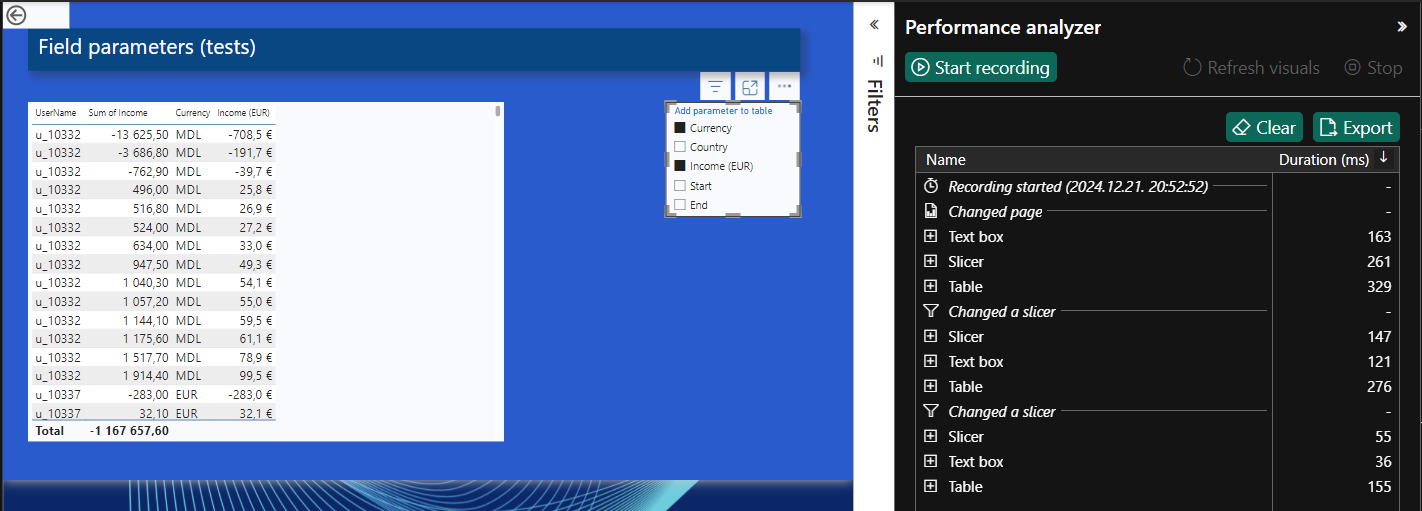

Layout of this report page (visuals, bound fields, positions):
{"tool":"powerbi","page":{"name":"DynIns_Table","canvas":[1280,720],"ordinal":6},"visuals":[{"type":"slicer","fields":{"Values":["Parameter 2.Parameter"]},"box":[997.1,150,202.9,172.9],"z":0},{"type":"textbox","box":[37.6,39.5,1163.3,64],"z":1000},{"type":"tableEx","fields":{"Values":["DATA.UserName","Sum(DATA.Income)","DATA.Currency","DATA.Amount(EUR)"]},"box":[38.6,150,717.1,511.4],"z":2000},{"type":"actionButton","box":[0,0,100,40],"z":3000}]}

Visuals, with their boxes on the page's 1280x720 design canvas (x1, y1, x2, y2). These are canvas units, not pixel positions in the 1422x511 screenshot, which may show the page scaled, cropped or inside an application window:
slicer - Parameter 2.Parameter: bbox=(997, 150, 1200, 323)
textbox: bbox=(38, 40, 1201, 104)
tableEx - DATA.UserName x Sum(DATA.Income): bbox=(39, 150, 756, 661)
actionButton: bbox=(0, 0, 100, 40)
